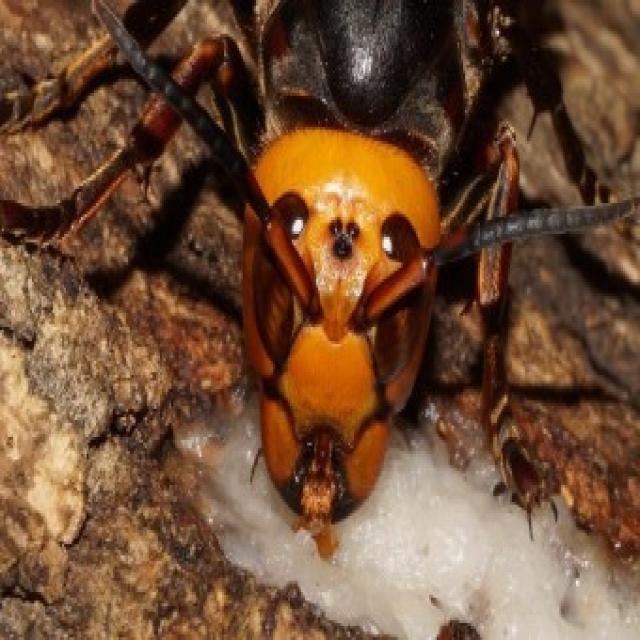Wasp: (107, 2, 634, 522)
